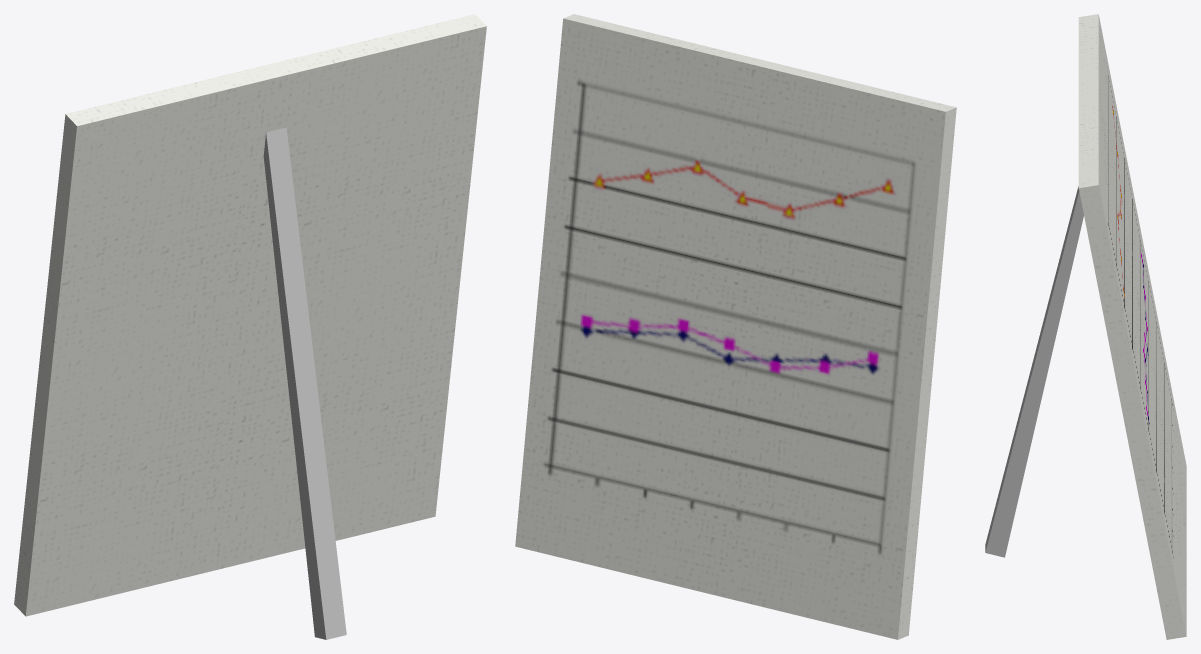
Rendered from PresentationBoardTextured_v1.fbx.
3 renders of one model, left to right at view 1: azimuth 30°, elevation 25°; view 2: azimuth 150°, elevation 25°; view 3: azimuth 270°, elevation 25°, orthographic. The views are drawn at different scales.
Parts seen in each view (by area): view 1: PresentationBoard; view 2: PresentationBoard; view 3: PresentationBoard.
Part boxes in pixels (x1,y1,x2,y2): PresentationBoard: (14,14,486,639); PresentationBoard: (515,14,956,639); PresentationBoard: (985,14,1186,639).
Bounding box in the file's own units: 2 × 2.48 × 0.9938.
